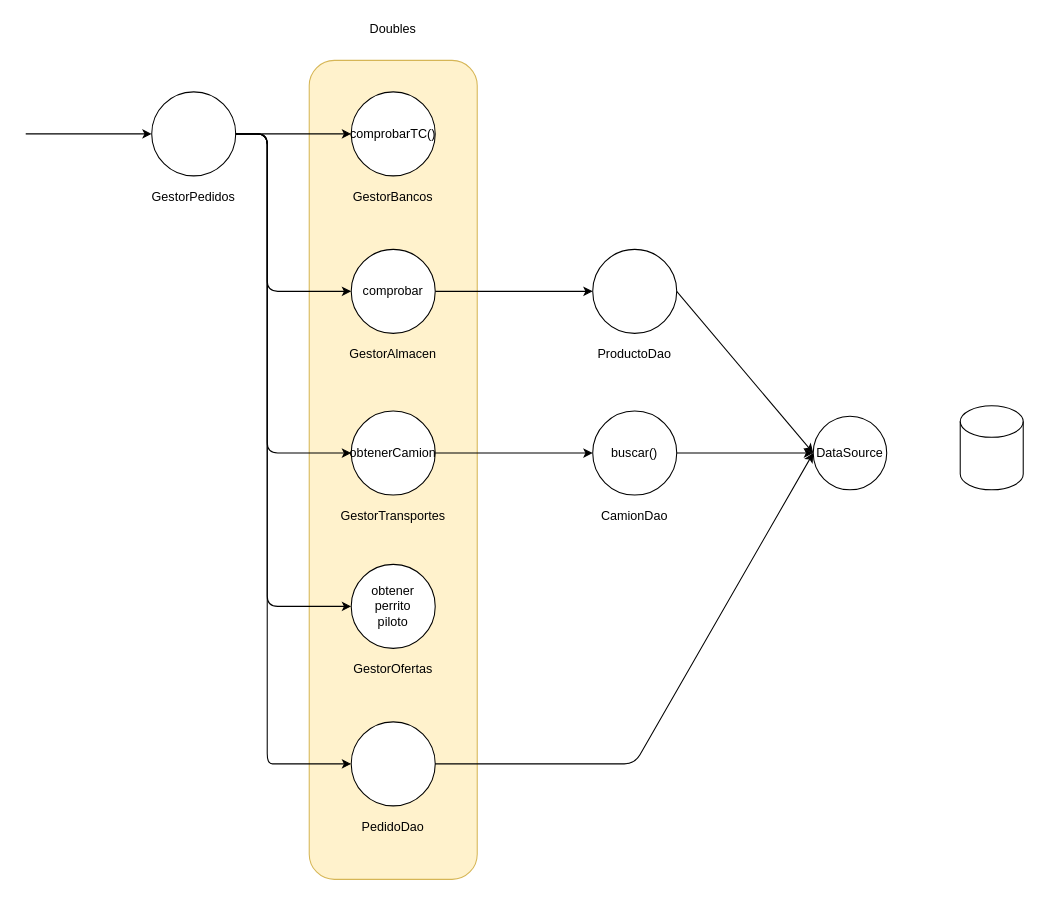
The diagram is 1042 pixels wide and 898 high, and some of its shapes have lost their labels. Each missing label, with the centre of its shape:
"aceptarPedido" belongs at (x=193, y=133).
"buscar(id)" belongs at (x=634, y=290).
"modificar(p)" belongs at (x=392, y=763).
